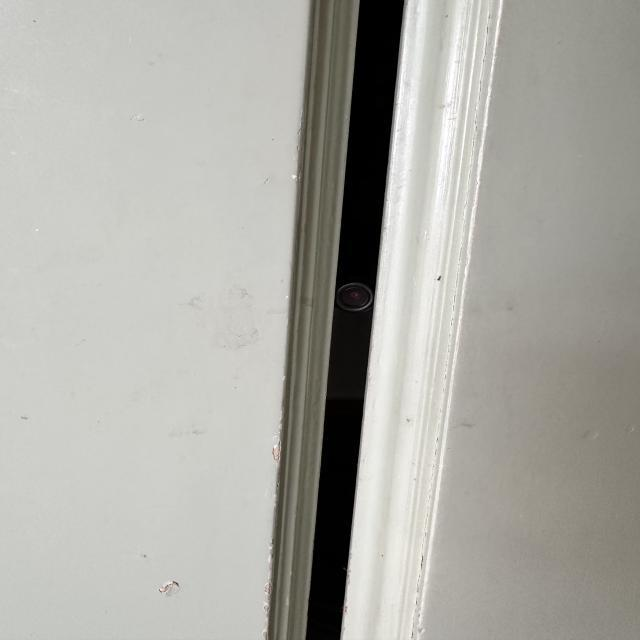hidden camera: (335, 283, 373, 312)
